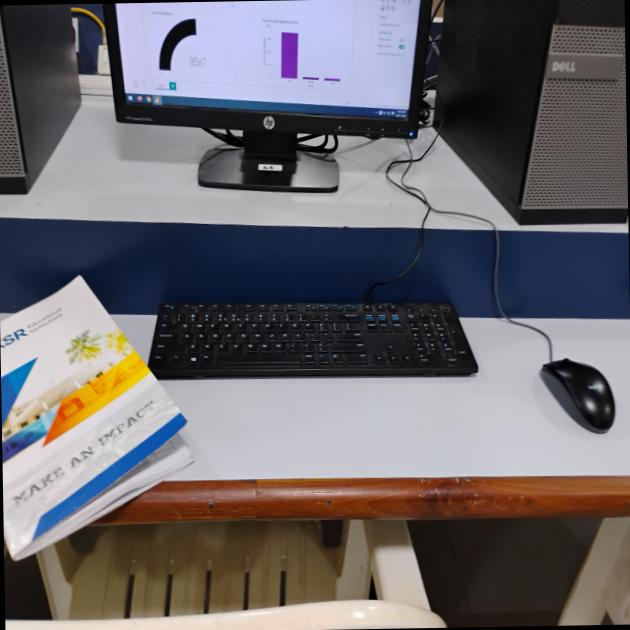computer: (92, 0, 473, 216)
cpu: (498, 0, 628, 227)
keyboard: (148, 288, 486, 392)
mouse: (538, 333, 629, 463)
notebook: (0, 271, 166, 563)
